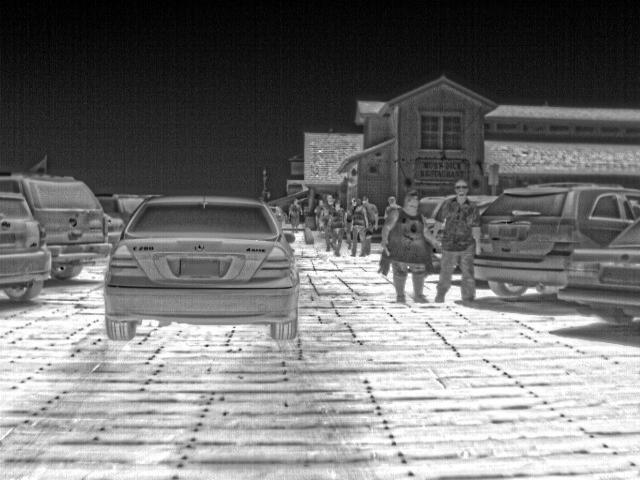car: (101, 194, 301, 338), (472, 183, 639, 300), (2, 170, 112, 284), (558, 211, 639, 322), (0, 178, 51, 302), (94, 190, 149, 222)
person: (429, 179, 484, 304), (381, 193, 439, 300), (322, 194, 345, 253), (346, 195, 368, 256), (330, 200, 347, 257), (360, 194, 380, 230), (286, 196, 306, 232), (379, 195, 401, 222), (313, 196, 328, 230)
